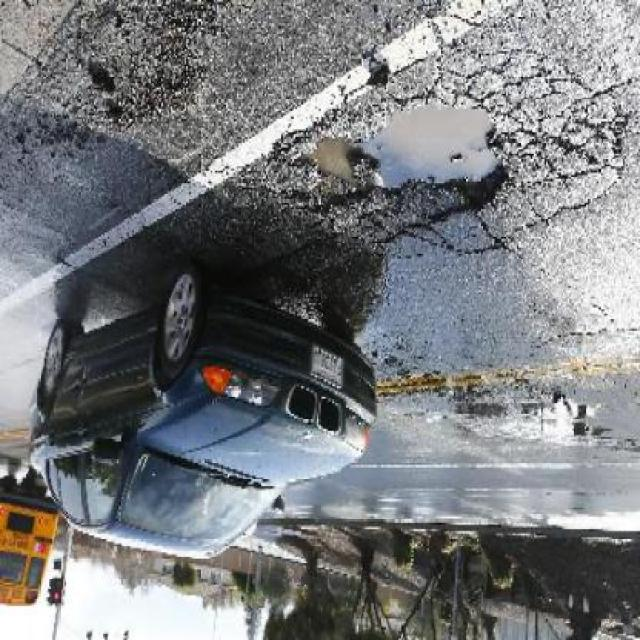pothole: (288, 107, 506, 228)
